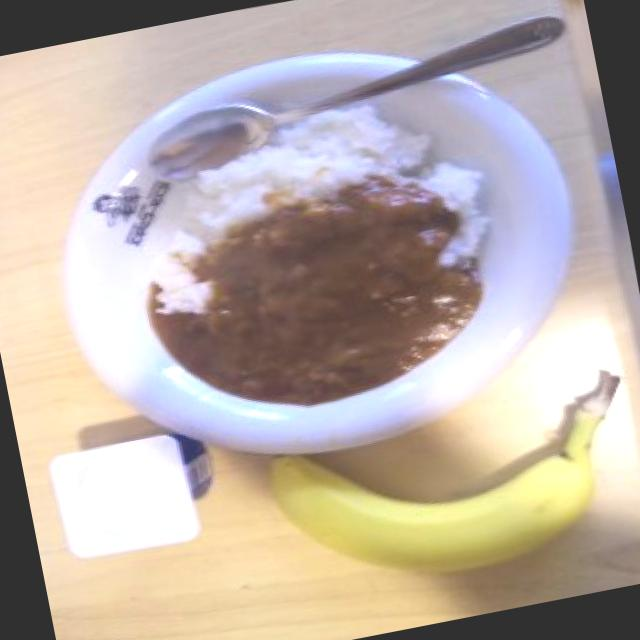Banana: (234, 354, 640, 619)
Beef Curry: (106, 138, 534, 442)
